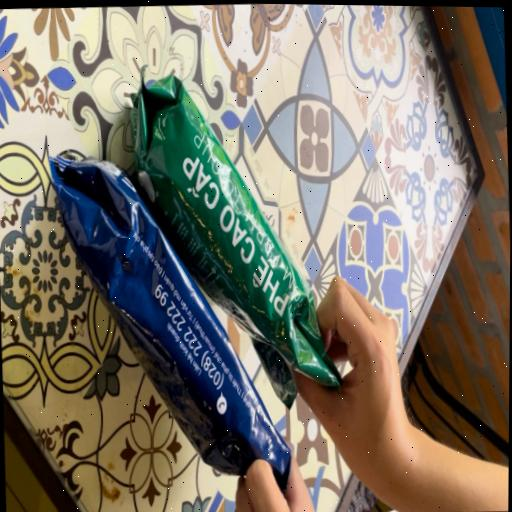cafe_hat: (48, 156, 290, 490)
cafe_xay: (129, 67, 338, 405)
